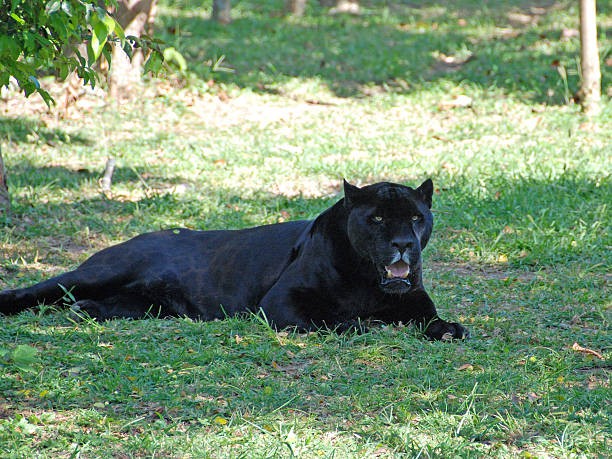panther: (325, 167, 453, 315)
